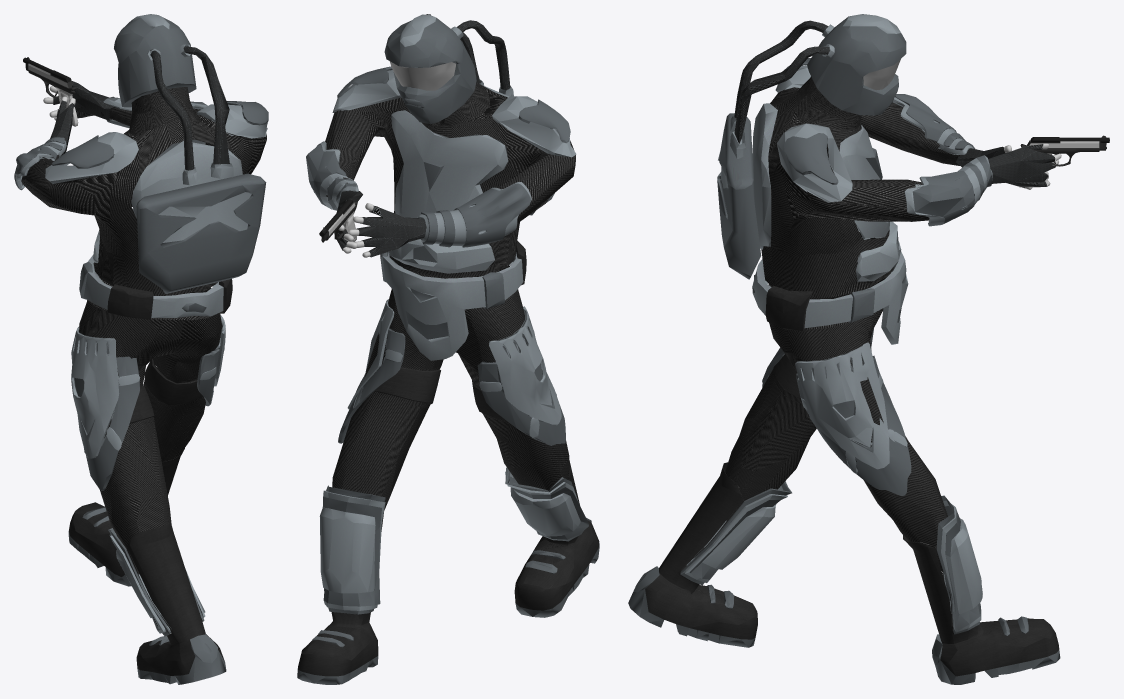
The picture shows the model from 3 angles, left to right: view 1: azimuth 30°, elevation 25°; view 2: azimuth 150°, elevation 25°; view 3: azimuth 270°, elevation 25°; orthographic projection. The views are drawn at different scales.
Parts seen in each view (by area): view 1: personajeskefix:personaje:extrudedSurface2 polySurface44, personajeskefix:personaje:PANTALON polySurface44, personajeskefix:personaje:CAMISETABUENA polySurface44, personajeskefix:personaje:bota1 polySurface44, personajeskefix:personaje:pPipe4 polySurface44, personajeskefix:personaje:cosoarmdaurapierna1 polySurface44, personajeskefix:personaje:cinturon polySurface44, personajeskefix:personaje:pCube4 polySurface44, personajeskefix:personaje:polySurface6 polySurface44, personajeskefix:personaje:polySurface11 polySurface44, personajeskefix:personaje:HOMBRO2 polySurface44, pistola:Cylinder001 polySurface44 (+5 smaller); view 2: personajeskefix:personaje:pPipe4 polySurface44, personajeskefix:personaje:PANTALON polySurface44, personajeskefix:personaje:CAMISETABUENA polySurface44, personajeskefix:personaje:bota1 polySurface44, personajeskefix:personaje:cinturon polySurface44, personajeskefix:personaje:armadbota1 polySurface44, personajeskefix:personaje:pCube4 polySurface44, personajeskefix:personaje:extrudedSurface2 polySurface44, personajeskefix:personaje:cosoarmdaurapierna1 polySurface44, personajeskefix:personaje:polySurface2 polySurface44, personajeskefix:personaje:polySurface6 polySurface44, personajeskefix:personaje:cosoarmadurapierna2 polySurface44 (+7 smaller); view 3: personajeskefix:personaje:CAMISETABUENA polySurface44, personajeskefix:personaje:bota1 polySurface44, personajeskefix:personaje:pPipe4 polySurface44, personajeskefix:personaje:PANTALON polySurface44, personajeskefix:personaje:extrudedSurface2 polySurface44, personajeskefix:personaje:pCube4 polySurface44, personajeskefix:personaje:cinturon polySurface44, personajeskefix:personaje:armadbota1 polySurface44, personajeskefix:personaje:cosoarmadurapierna2 polySurface44, personajeskefix:personaje:hombro1 polySurface44, pistola:Cylinder001 polySurface44, personajeskefix:personaje:polySurface2 polySurface44 (+2 smaller).
Part boxes in pixels (left/top/right/bottom): personajeskefix:personaje:extrudedSurface2 polySurface44: left=114, top=14, right=266, bottom=293; personajeskefix:personaje:PANTALON polySurface44: left=79, top=276, right=222, bottom=574; personajeskefix:personaje:CAMISETABUENA polySurface44: left=21, top=87, right=266, bottom=320; personajeskefix:personaje:bota1 polySurface44: left=68, top=448, right=226, bottom=684; personajeskefix:personaje:pPipe4 polySurface44: left=40, top=80, right=267, bottom=261; personajeskefix:personaje:cosoarmdaurapierna1 polySurface44: left=71, top=326, right=139, bottom=458; personajeskefix:personaje:cinturon polySurface44: left=79, top=255, right=232, bottom=319; personajeskefix:personaje:pCube4 polySurface44: left=74, top=314, right=225, bottom=636; personajeskefix:personaje:polySurface6 polySurface44: left=129, top=359, right=203, bottom=423; personajeskefix:personaje:polySurface11 polySurface44: left=150, top=50, right=194, bottom=170; personajeskefix:personaje:HOMBRO2 polySurface44: left=52, top=135, right=113, bottom=168; pistola:Cylinder001 polySurface44: left=23, top=57, right=78, bottom=126; personajeskefix:personaje:pPipe4 polySurface44: left=306, top=70, right=576, bottom=273; personajeskefix:personaje:PANTALON polySurface44: left=332, top=261, right=569, bottom=510; personajeskefix:personaje:CAMISETABUENA polySurface44: left=325, top=67, right=575, bottom=300; personajeskefix:personaje:bota1 polySurface44: left=297, top=461, right=599, bottom=684; personajeskefix:personaje:cinturon polySurface44: left=380, top=241, right=526, bottom=360; personajeskefix:personaje:armadbota1 polySurface44: left=319, top=471, right=583, bottom=610; personajeskefix:personaje:pCube4 polySurface44: left=322, top=299, right=588, bottom=614; personajeskefix:personaje:extrudedSurface2 polySurface44: left=384, top=14, right=554, bottom=215; personajeskefix:personaje:cosoarmdaurapierna1 polySurface44: left=479, top=306, right=561, bottom=438; personajeskefix:personaje:polySurface2 polySurface44: left=421, top=183, right=530, bottom=247; personajeskefix:personaje:polySurface6 polySurface44: left=375, top=367, right=505, bottom=420; personajeskefix:personaje:cosoarmadurapierna2 polySurface44: left=338, top=328, right=405, bottom=443; personajeskefix:personaje:CAMISETABUENA polySurface44: left=761, top=76, right=974, bottom=329; personajeskefix:personaje:bota1 polySurface44: left=628, top=462, right=1060, bottom=684; personajeskefix:personaje:pPipe4 polySurface44: left=752, top=65, right=1055, bottom=281; personajeskefix:personaje:PANTALON polySurface44: left=725, top=262, right=947, bottom=570; personajeskefix:personaje:extrudedSurface2 polySurface44: left=717, top=14, right=906, bottom=279; personajeskefix:personaje:pCube4 polySurface44: left=680, top=328, right=980, bottom=634; personajeskefix:personaje:cinturon polySurface44: left=752, top=237, right=908, bottom=344; personajeskefix:personaje:armadbota1 polySurface44: left=684, top=486, right=982, bottom=632; personajeskefix:personaje:cosoarmadurapierna2 polySurface44: left=796, top=355, right=911, bottom=495; personajeskefix:personaje:hombro1 polySurface44: left=784, top=133, right=838, bottom=184; pistola:Cylinder001 polySurface44: left=1019, top=135, right=1109, bottom=187; personajeskefix:personaje:polySurface2 polySurface44: left=895, top=94, right=975, bottom=149.
Bounding box in the file's own units: 3.64 × 9.32 × 6.24.
